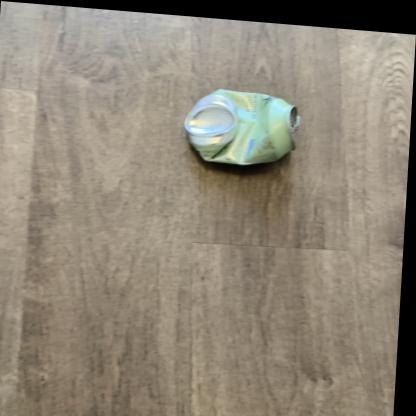trash: (184, 89, 299, 164)
